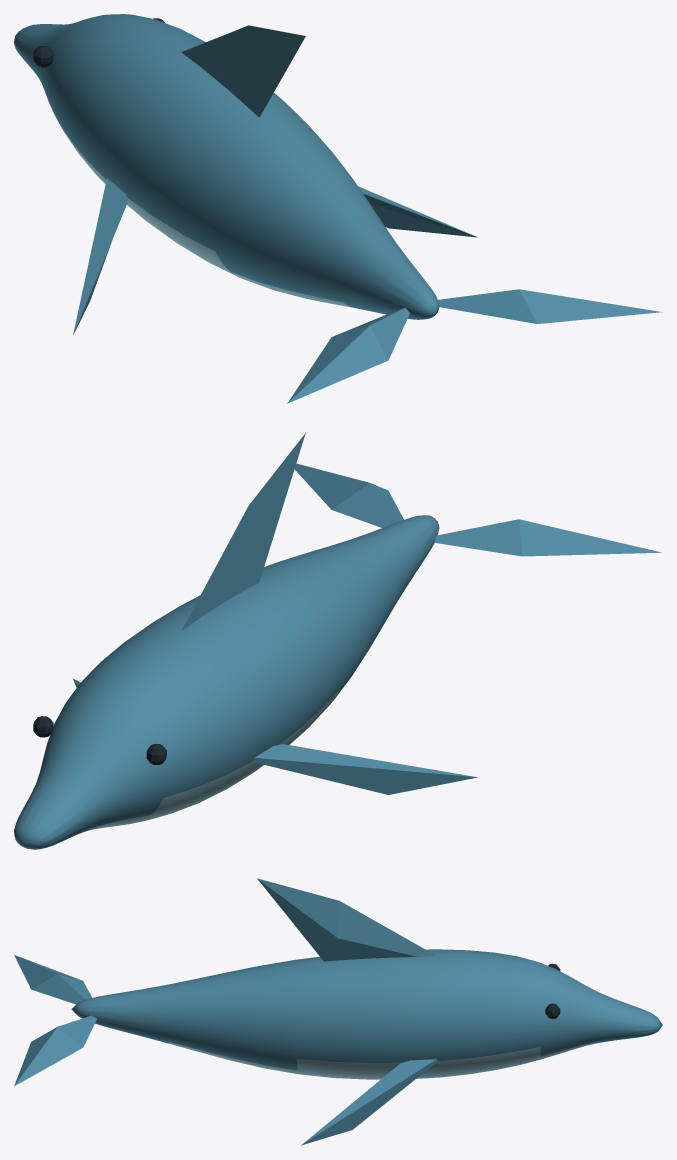
The model's file is water-dolphin.glb.
3 views of the same model, one above another, from view 1: azimuth 30°, elevation 25°; view 2: azimuth 150°, elevation 25°; view 3: azimuth 270°, elevation 25° (orthographic). The views are drawn at different scales.
Visible parts, largest first — view 1: Dolphin body, Dorsal fin, Tail fluke, Tail fluke.001, Flipper, Flipper.001; view 2: Dolphin body, Dorsal fin, Flipper, Tail fluke, Tail fluke.001; view 3: Dolphin body, Dorsal fin, Flipper.001, Tail fluke.001, Tail fluke.
Boxes of the visible parts, left/top/right/bottom form: Dolphin body: left=14, top=14, right=439, bottom=319; Dorsal fin: left=181, top=25, right=305, bottom=117; Tail fluke: left=287, top=307, right=409, bottom=403; Tail fluke.001: left=438, top=289, right=662, bottom=323; Flipper: left=73, top=178, right=128, bottom=335; Flipper.001: left=358, top=186, right=477, bottom=237; Dolphin body: left=14, top=515, right=439, bottom=849; Dorsal fin: left=181, top=433, right=305, bottom=630; Flipper: left=252, top=744, right=477, bottom=794; Tail fluke: left=434, top=519, right=661, bottom=556; Tail fluke.001: left=294, top=463, right=403, bottom=527; Dolphin body: left=71, top=949, right=662, bottom=1079; Dorsal fin: left=257, top=878, right=435, bottom=961; Flipper.001: left=301, top=1059, right=437, bottom=1145; Tail fluke.001: left=14, top=1015, right=96, bottom=1086; Tail fluke: left=14, top=955, right=91, bottom=1004.
Bounding box in the file's own units: 1.36 × 0.8888 × 2.62.
